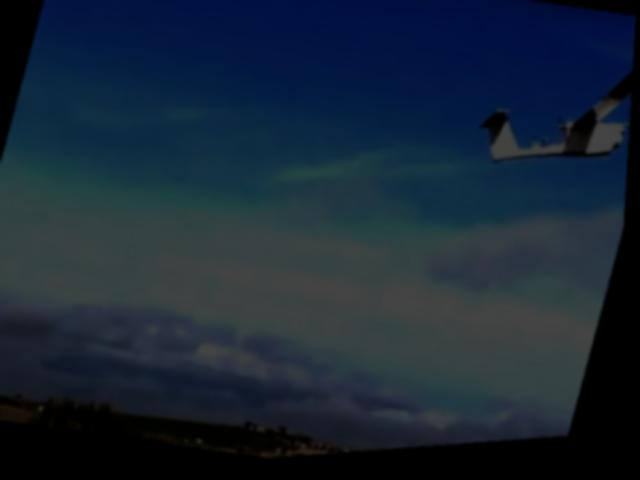iha: (463, 40, 636, 210)
